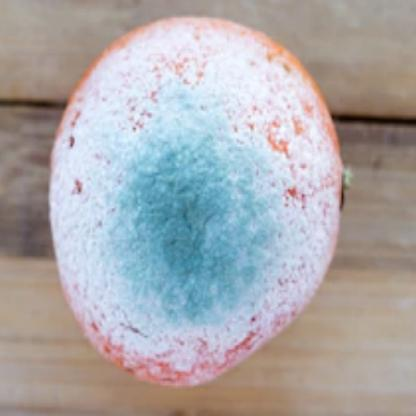rotten: (53, 16, 345, 379)
